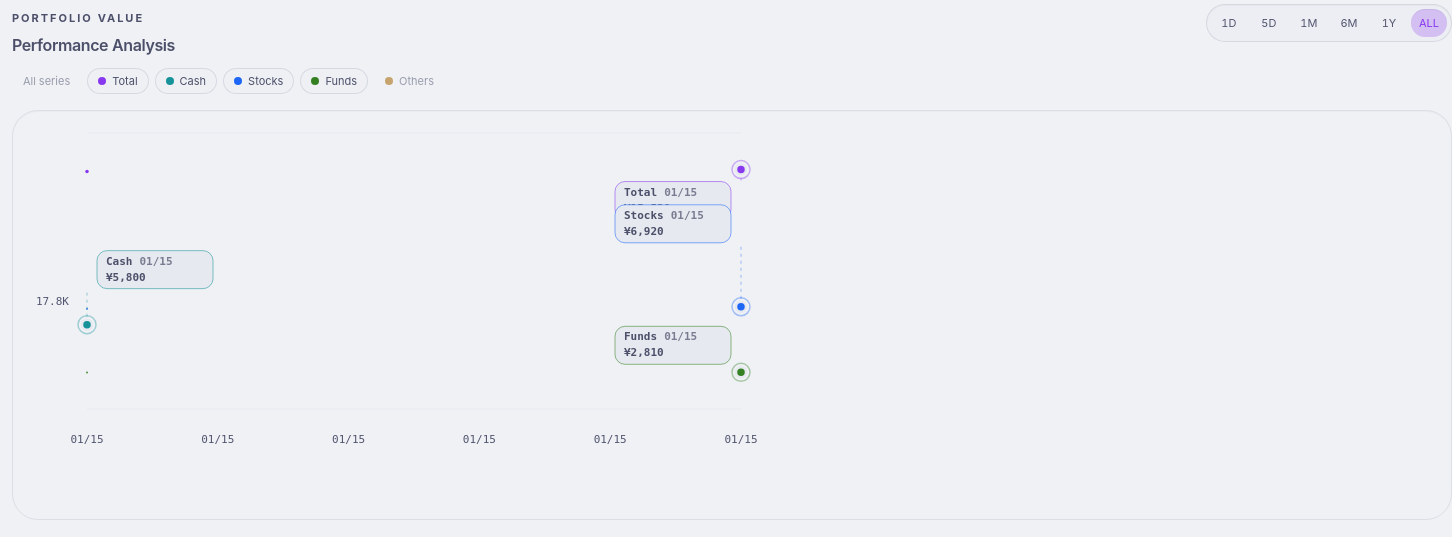
Test: shows category point-in-time change and portfolio context for a single stock or fund line
Click the button "Total": x=118, y=81 [87, 68, 148, 94]
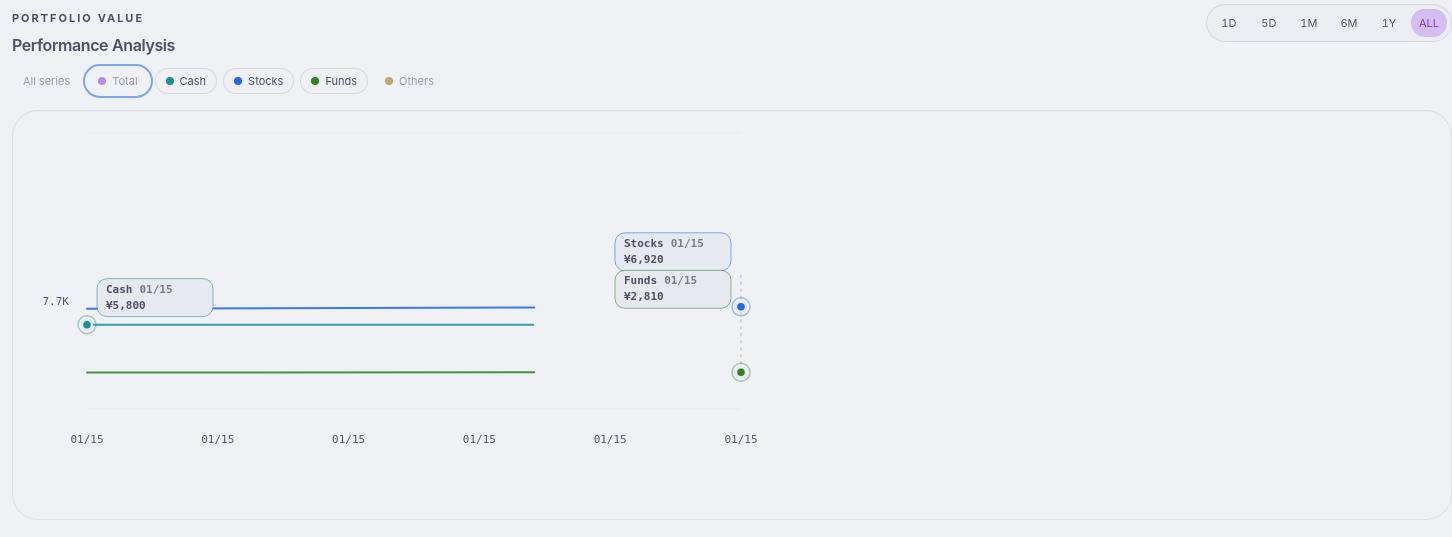
Click the button "Cash": x=186, y=81 [155, 68, 217, 94]
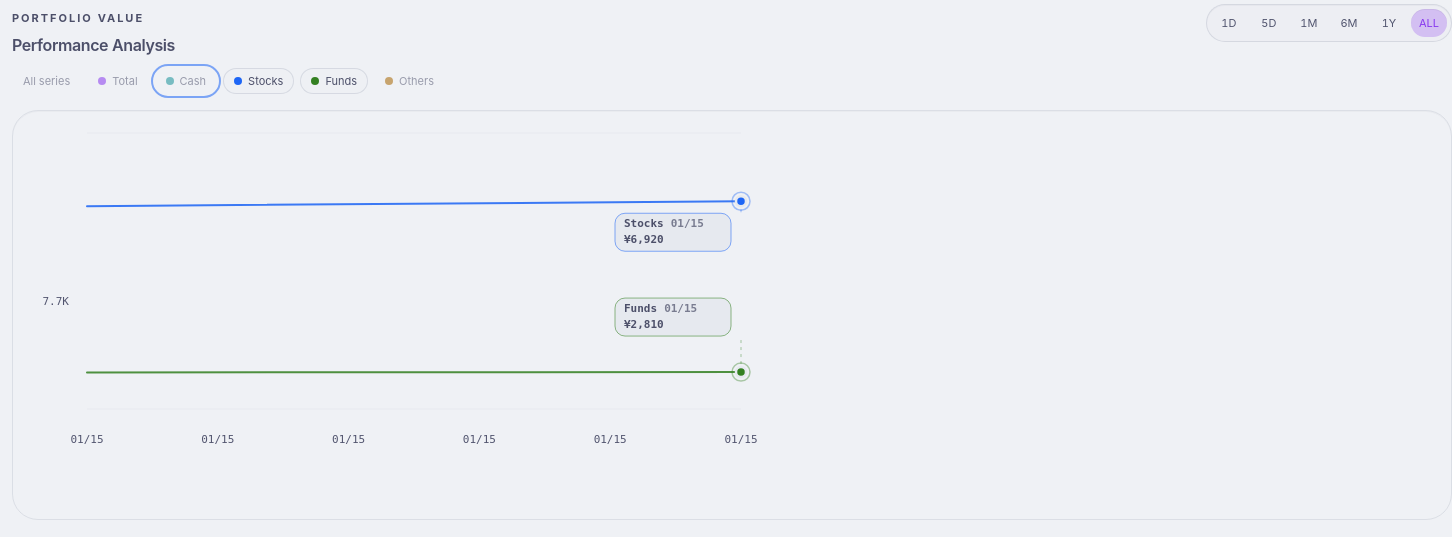
Click the button "Funds": x=334, y=81 [300, 68, 368, 94]
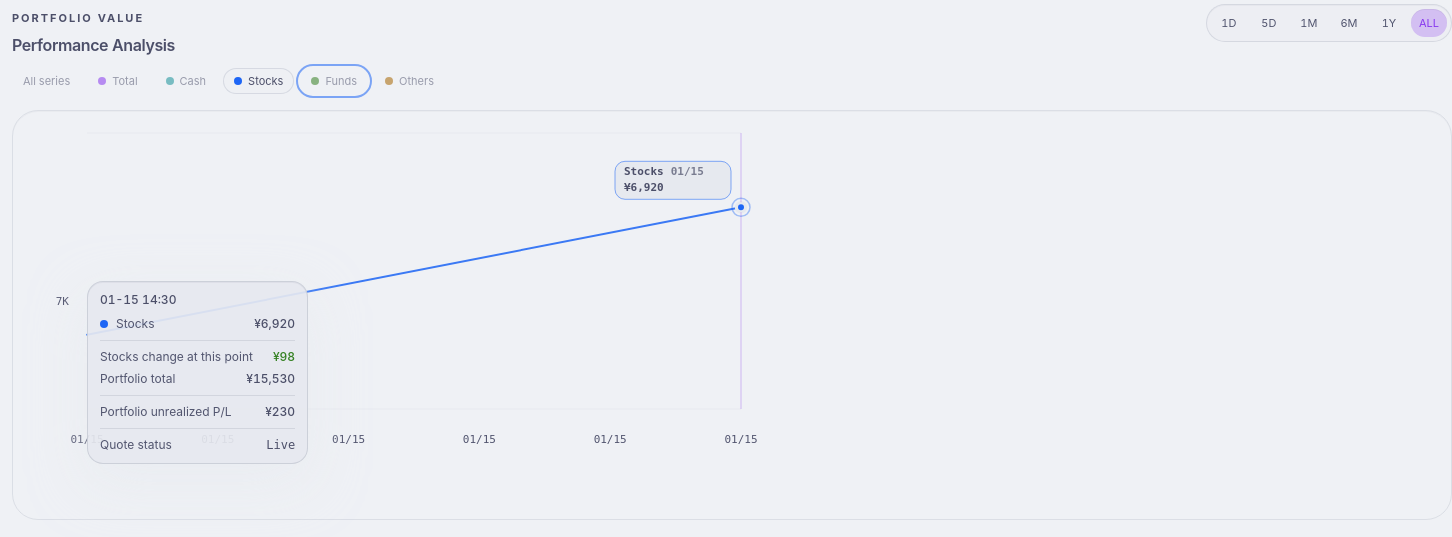
Result: the element with class "recharts-tooltip-wrapper" shows "Stocks" at [116, 316, 154, 331]
Result: the element with class "recharts-tooltip-wrapper" shows "Stocks change at this point" at [100, 349, 253, 364]
Result: the element with class "recharts-tooltip-wrapper" shows "¥98" at [273, 349, 295, 364]
